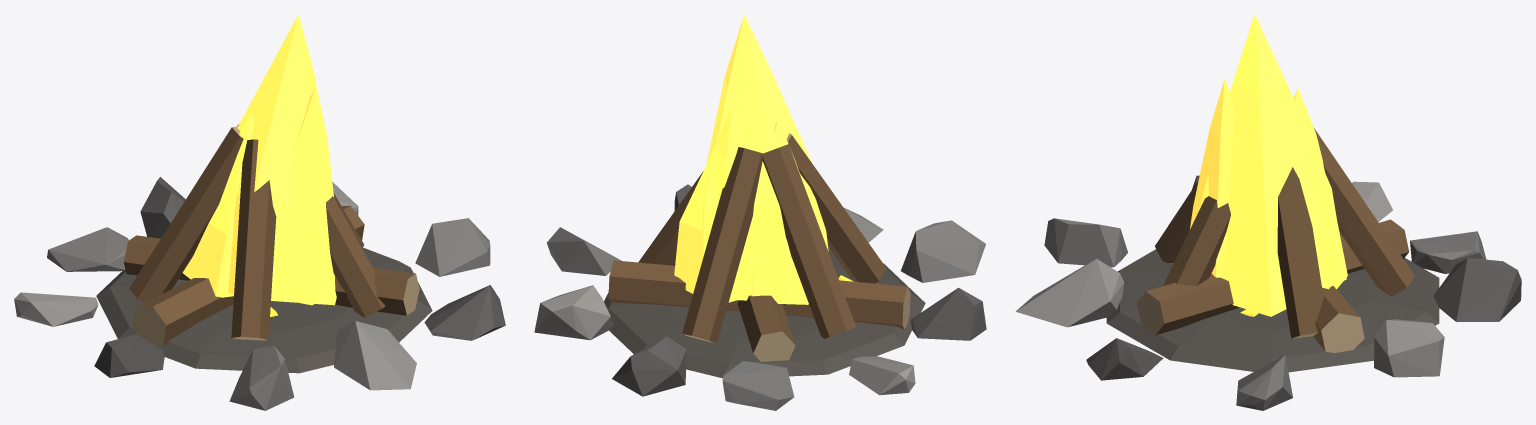
Rendered from campfire.glb.
The picture shows the model from 3 angles, left to right: view 1: azimuth 30°, elevation 25°; view 2: azimuth 150°, elevation 25°; view 3: azimuth 270°, elevation 25°; orthographic projection. The views are drawn at different scales.
Parts seen in each view (by area): view 1: Campfire; view 2: Campfire; view 3: Campfire.
Part boxes in pixels (x1,y1,x2,y2): Campfire: (14, 14, 505, 410); Campfire: (534, 14, 986, 410); Campfire: (1015, 14, 1521, 410).
Bounding box in the file's own units: 1.44 × 0.9446 × 1.45.
